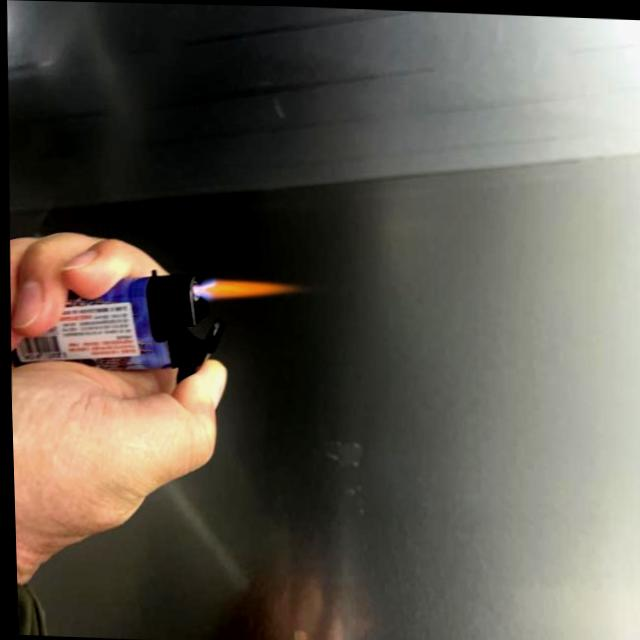helmet: (196, 273, 296, 304)
